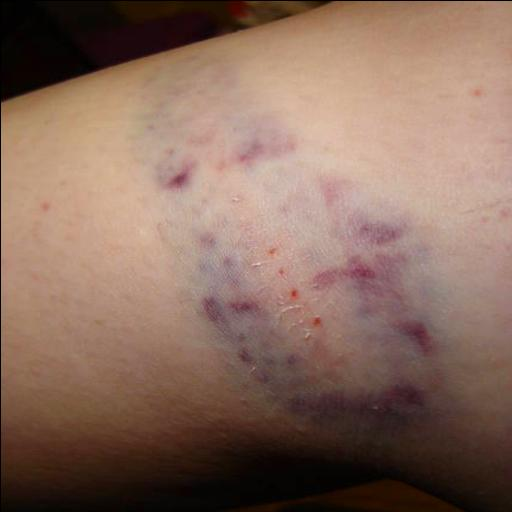bruises: (172, 131, 274, 238), (352, 228, 396, 334)
